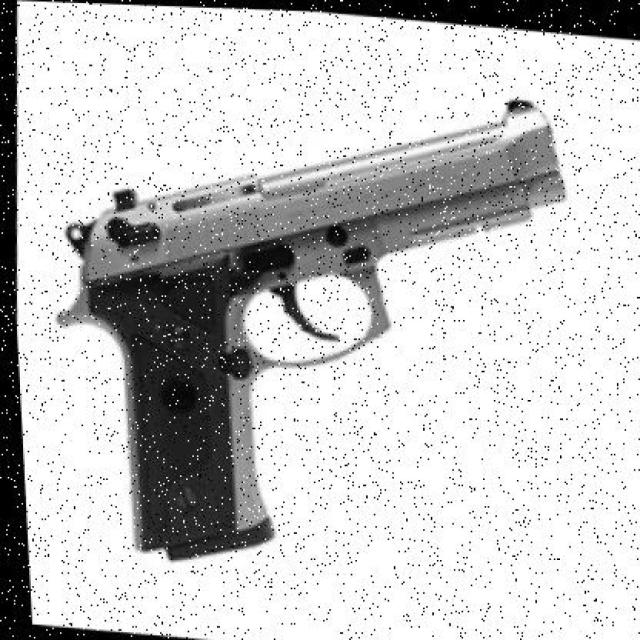weapon: (54, 96, 574, 569)
